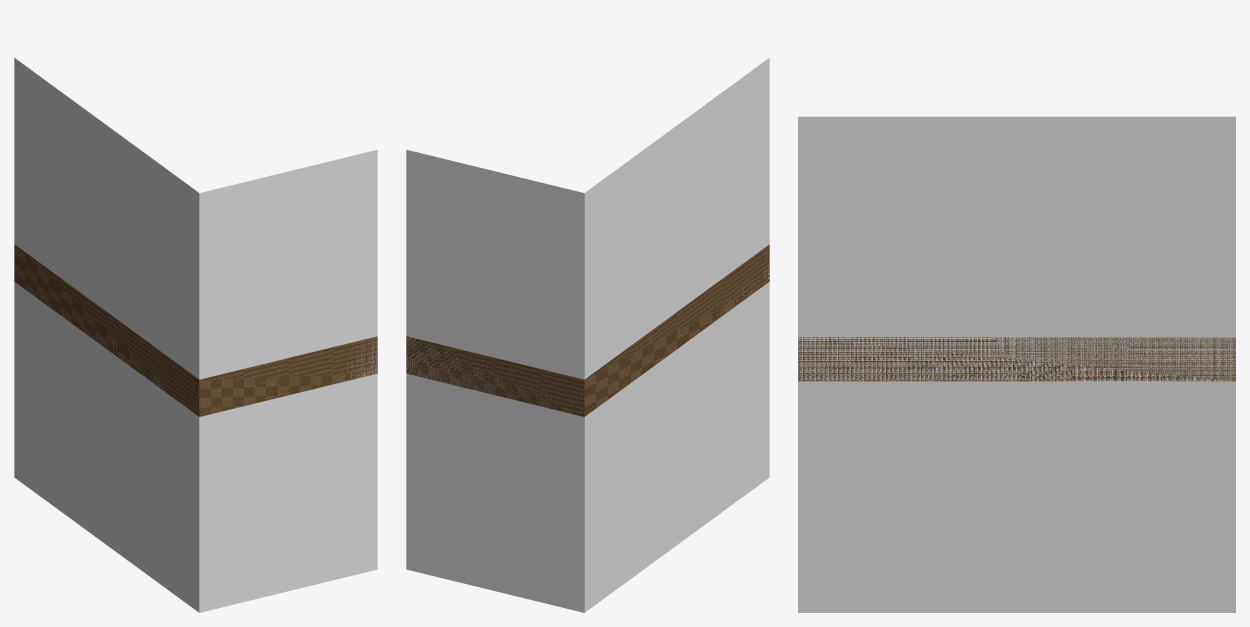
Rendered from flotsam.glb.
The picture shows the model from 3 angles, left to right: view 1: azimuth 30°, elevation 25°; view 2: azimuth 150°, elevation 25°; view 3: azimuth 270°, elevation 25°; orthographic projection. The views are drawn at different scales.
Parts seen in each view (by area): view 1: flotsam_col, flotsam; view 2: flotsam_col, flotsam; view 3: flotsam_col, flotsam.
Part boxes in pixels (left/top/right/bottom): flotsam_col: left=14, top=58, right=377, bottom=612; flotsam: left=14, top=244, right=377, bottom=416; flotsam_col: left=406, top=58, right=769, bottom=612; flotsam: left=406, top=244, right=769, bottom=416; flotsam_col: left=798, top=116, right=1235, bottom=612; flotsam: left=798, top=337, right=1235, bottom=381.
Bounding box in the file's own units: 2 × 4.5 × 3.6.
Materials: 3 (1 with a texture image).
